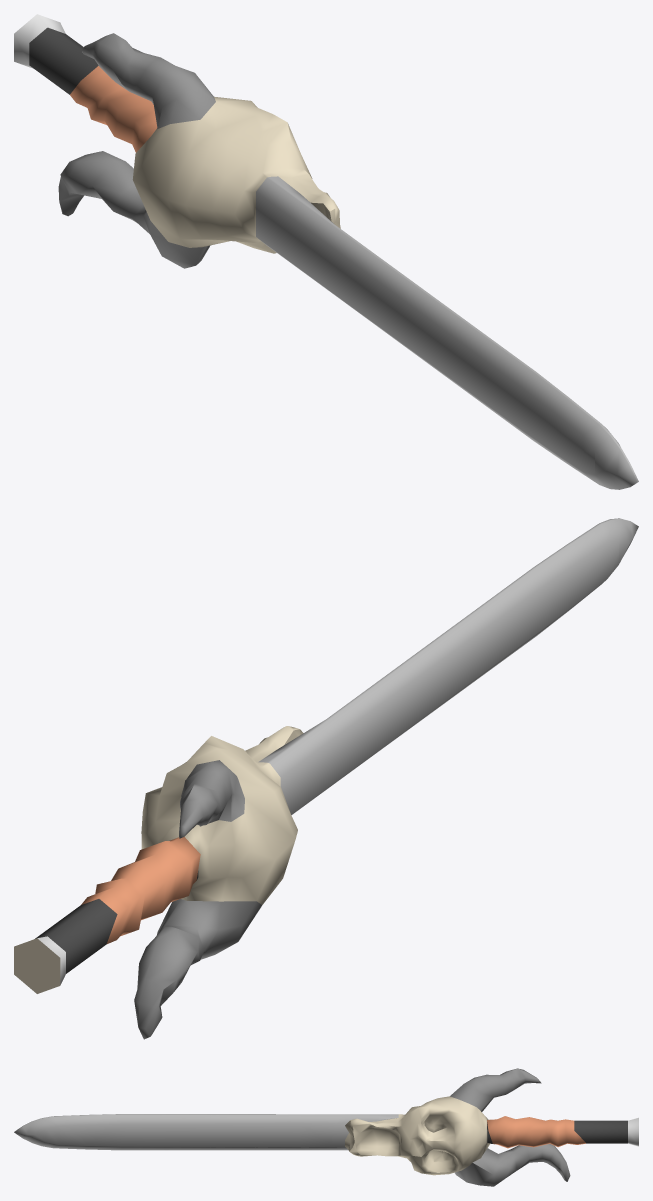
File: SwordLp.fbx
The picture shows the model from 3 angles, top to bottom: view 1: azimuth 30°, elevation 25°; view 2: azimuth 150°, elevation 25°; view 3: azimuth 270°, elevation 25°; orthographic projection. The views are drawn at different scales.
Visible parts, largest first — view 1: Cube.002; view 2: Cube.002; view 3: Cube.002.
Part boxes in pixels (box(x1,y1,x2,y2)): Cube.002: box(14, 14, 638, 489); Cube.002: box(14, 518, 638, 1039); Cube.002: box(14, 1068, 638, 1186).
Size of the model in its own units: 0.1441 by 0.2191 by 1.09.
